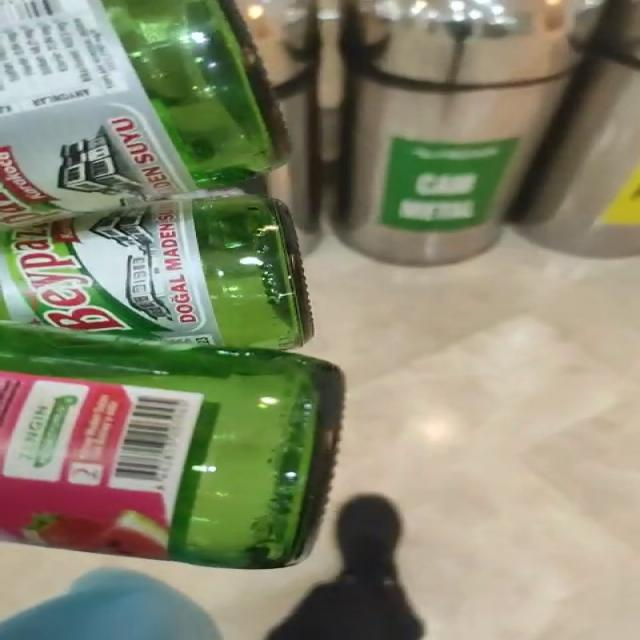glass: (1, 0, 344, 568)
